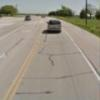cars: (46, 18, 62, 34)
